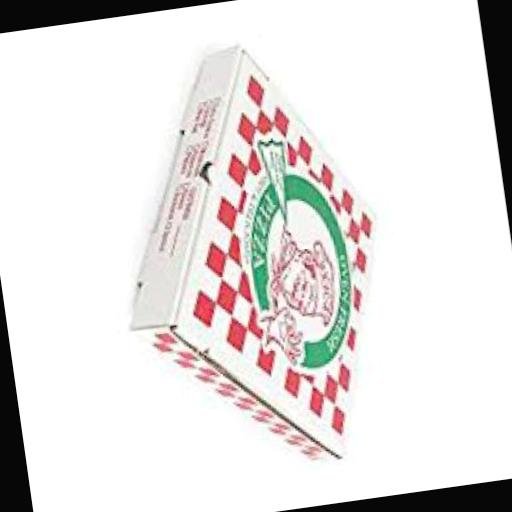cardboard: (100, 28, 412, 482)
